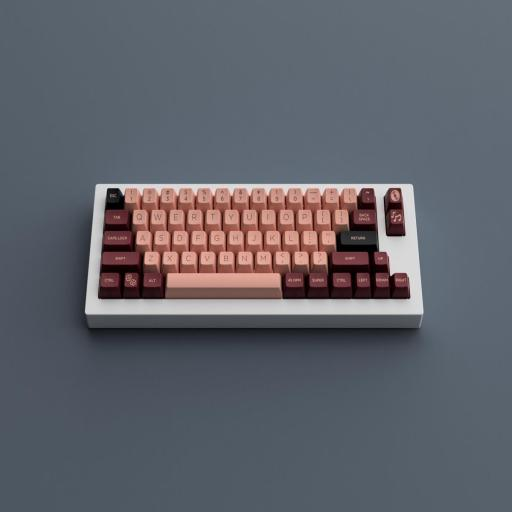KEYBOARD-2: (82, 176, 426, 332)
